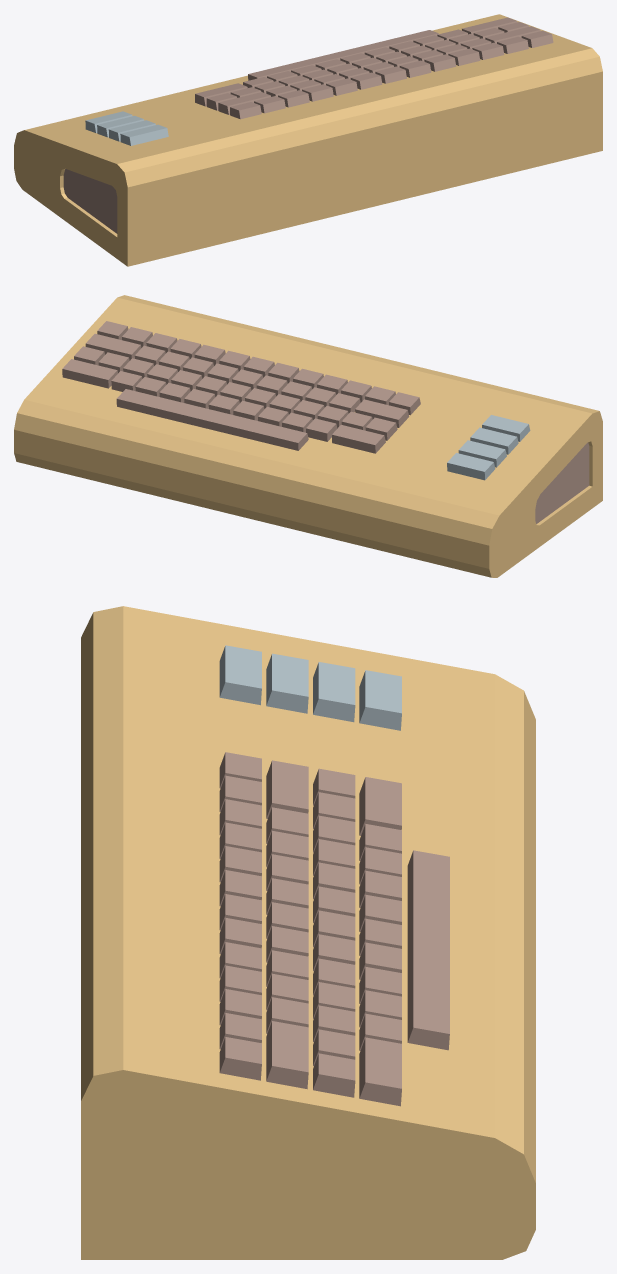
The model's file is Commodore.glb.
3 views of the same model, one above another, from view 1: azimuth 30°, elevation 25°; view 2: azimuth 150°, elevation 25°; view 3: azimuth 270°, elevation 25° (orthographic). The views are drawn at different scales.
Parts seen in each view (by area): view 1: Commodore_64_01_Cube.027; view 2: Commodore_64_01_Cube.027; view 3: Commodore_64_01_Cube.027.
Part boxes in pixels (box(x1,y1,x2,y2)): Commodore_64_01_Cube.027: box(14, 14, 602, 266); Commodore_64_01_Cube.027: box(14, 295, 602, 577); Commodore_64_01_Cube.027: box(81, 606, 535, 1259).
Size of the model in its own units: 24.13 by 4.61 by 10.
